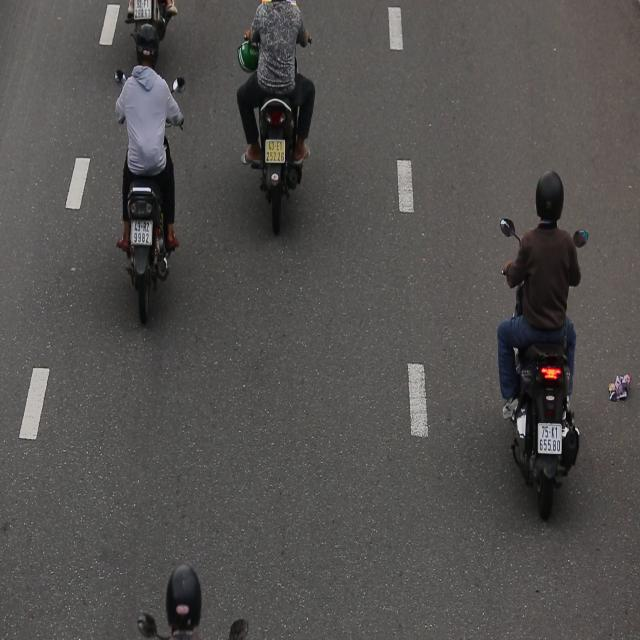motorbike: (490, 153, 596, 532), (113, 20, 193, 333)
